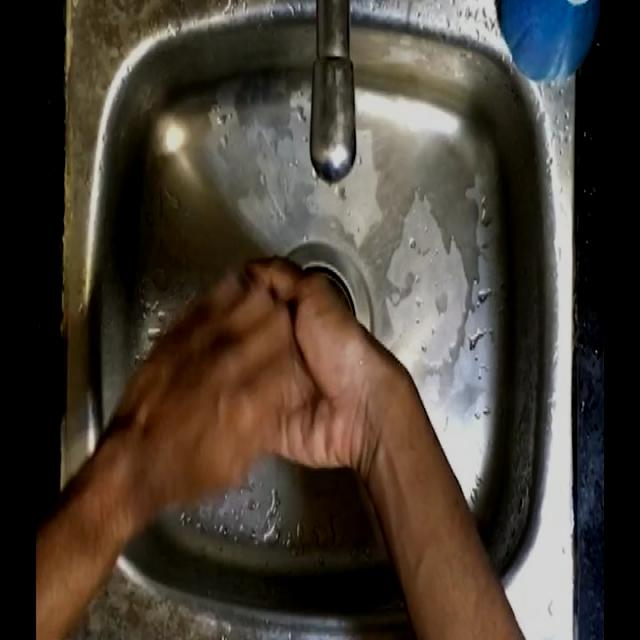step_4: (128, 250, 380, 497)
